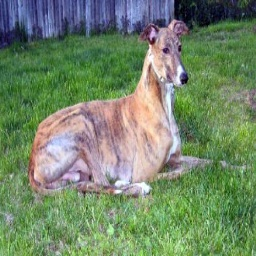dog: (29, 17, 226, 201)
